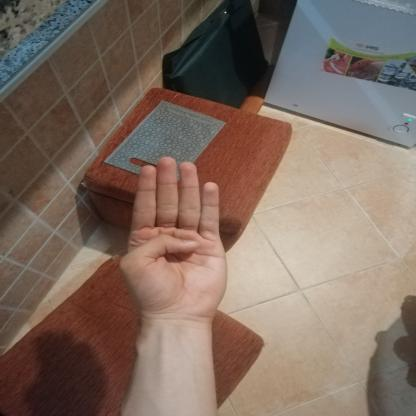KAAF: (107, 141, 246, 331)
